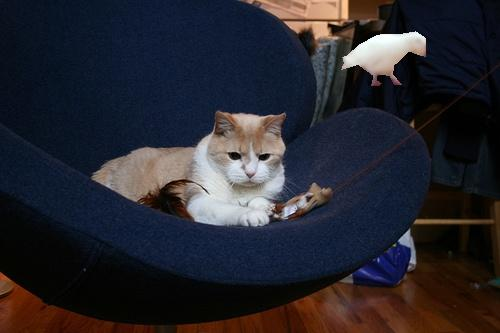tampered: (342, 32, 426, 86)
